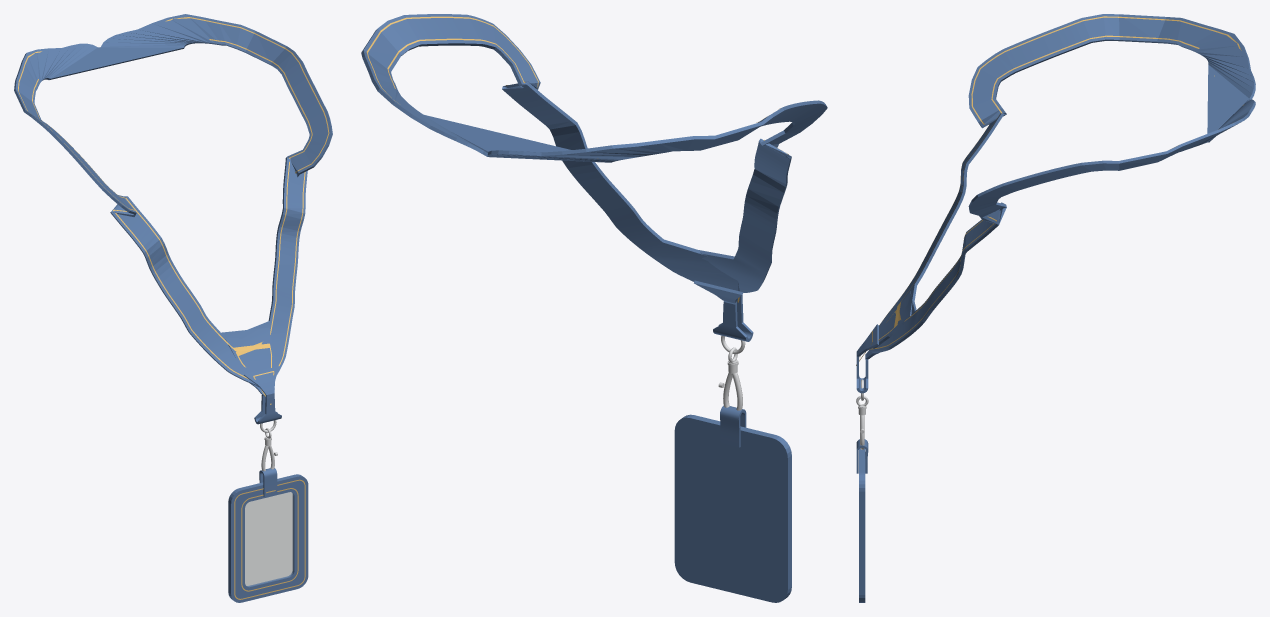
The model's file is denyx_badge.glb.
The picture shows the model from 3 angles, left to right: view 1: azimuth 30°, elevation 25°; view 2: azimuth 150°, elevation 25°; view 3: azimuth 270°, elevation 25°; orthographic projection. The views are drawn at different scales.
Parts seen in each view (by area): view 1: DENYX_Badge; view 2: DENYX_Badge; view 3: DENYX_Badge.
Boxes of the visible parts, box(x1,y1,x2,y2) form: DENYX_Badge: box(14, 14, 332, 602); DENYX_Badge: box(361, 14, 827, 602); DENYX_Badge: box(856, 14, 1255, 602).
Size of the model in its own units: 0.2465 by 0.3938 by 0.2809.
